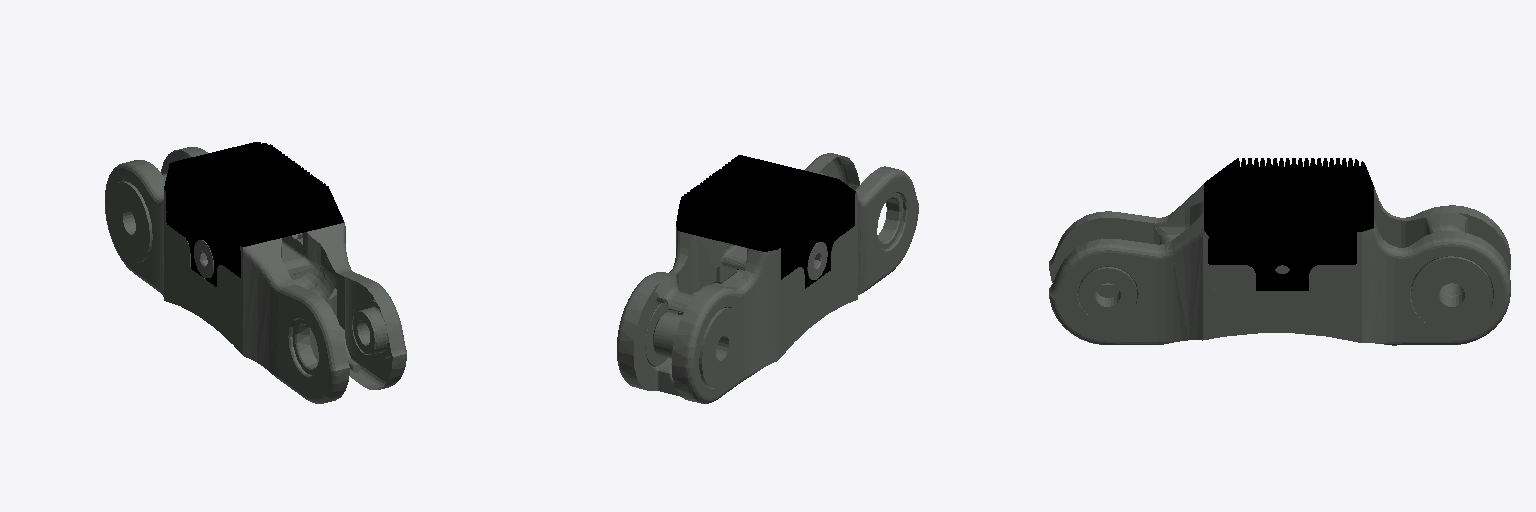
Rendered from mf_proximal.obj.
3 views of the same model, side by side, from view 1: azimuth 30°, elevation 25°; view 2: azimuth 150°, elevation 25°; view 3: azimuth 270°, elevation 25° (orthographic).
Parts seen in each view (by area): view 1: middle_proximal_base_SIH_right.053, middle_proximal_backplate_SIH_right.050, middle_proximal_spring_indication_SIH_right.054; view 2: middle_proximal_base_SIH_right.053, middle_proximal_backplate_SIH_right.050, middle_proximal_spring_indication_SIH_right.054; view 3: middle_proximal_base_SIH_right.053, middle_proximal_backplate_SIH_right.050.
Boxes of the visible parts, x1,y1,x2,y2 form: middle_proximal_base_SIH_right.053: [105, 147, 406, 403]; middle_proximal_backplate_SIH_right.050: [164, 142, 343, 286]; middle_proximal_spring_indication_SIH_right.054: [194, 240, 360, 372]; middle_proximal_base_SIH_right.053: [617, 153, 918, 403]; middle_proximal_backplate_SIH_right.050: [676, 155, 855, 288]; middle_proximal_spring_indication_SIH_right.054: [807, 242, 827, 279]; middle_proximal_base_SIH_right.053: [1049, 184, 1510, 345]; middle_proximal_backplate_SIH_right.050: [1204, 158, 1373, 290].
Bounding box in the file's own units: 18 × 24.5 × 70.49.